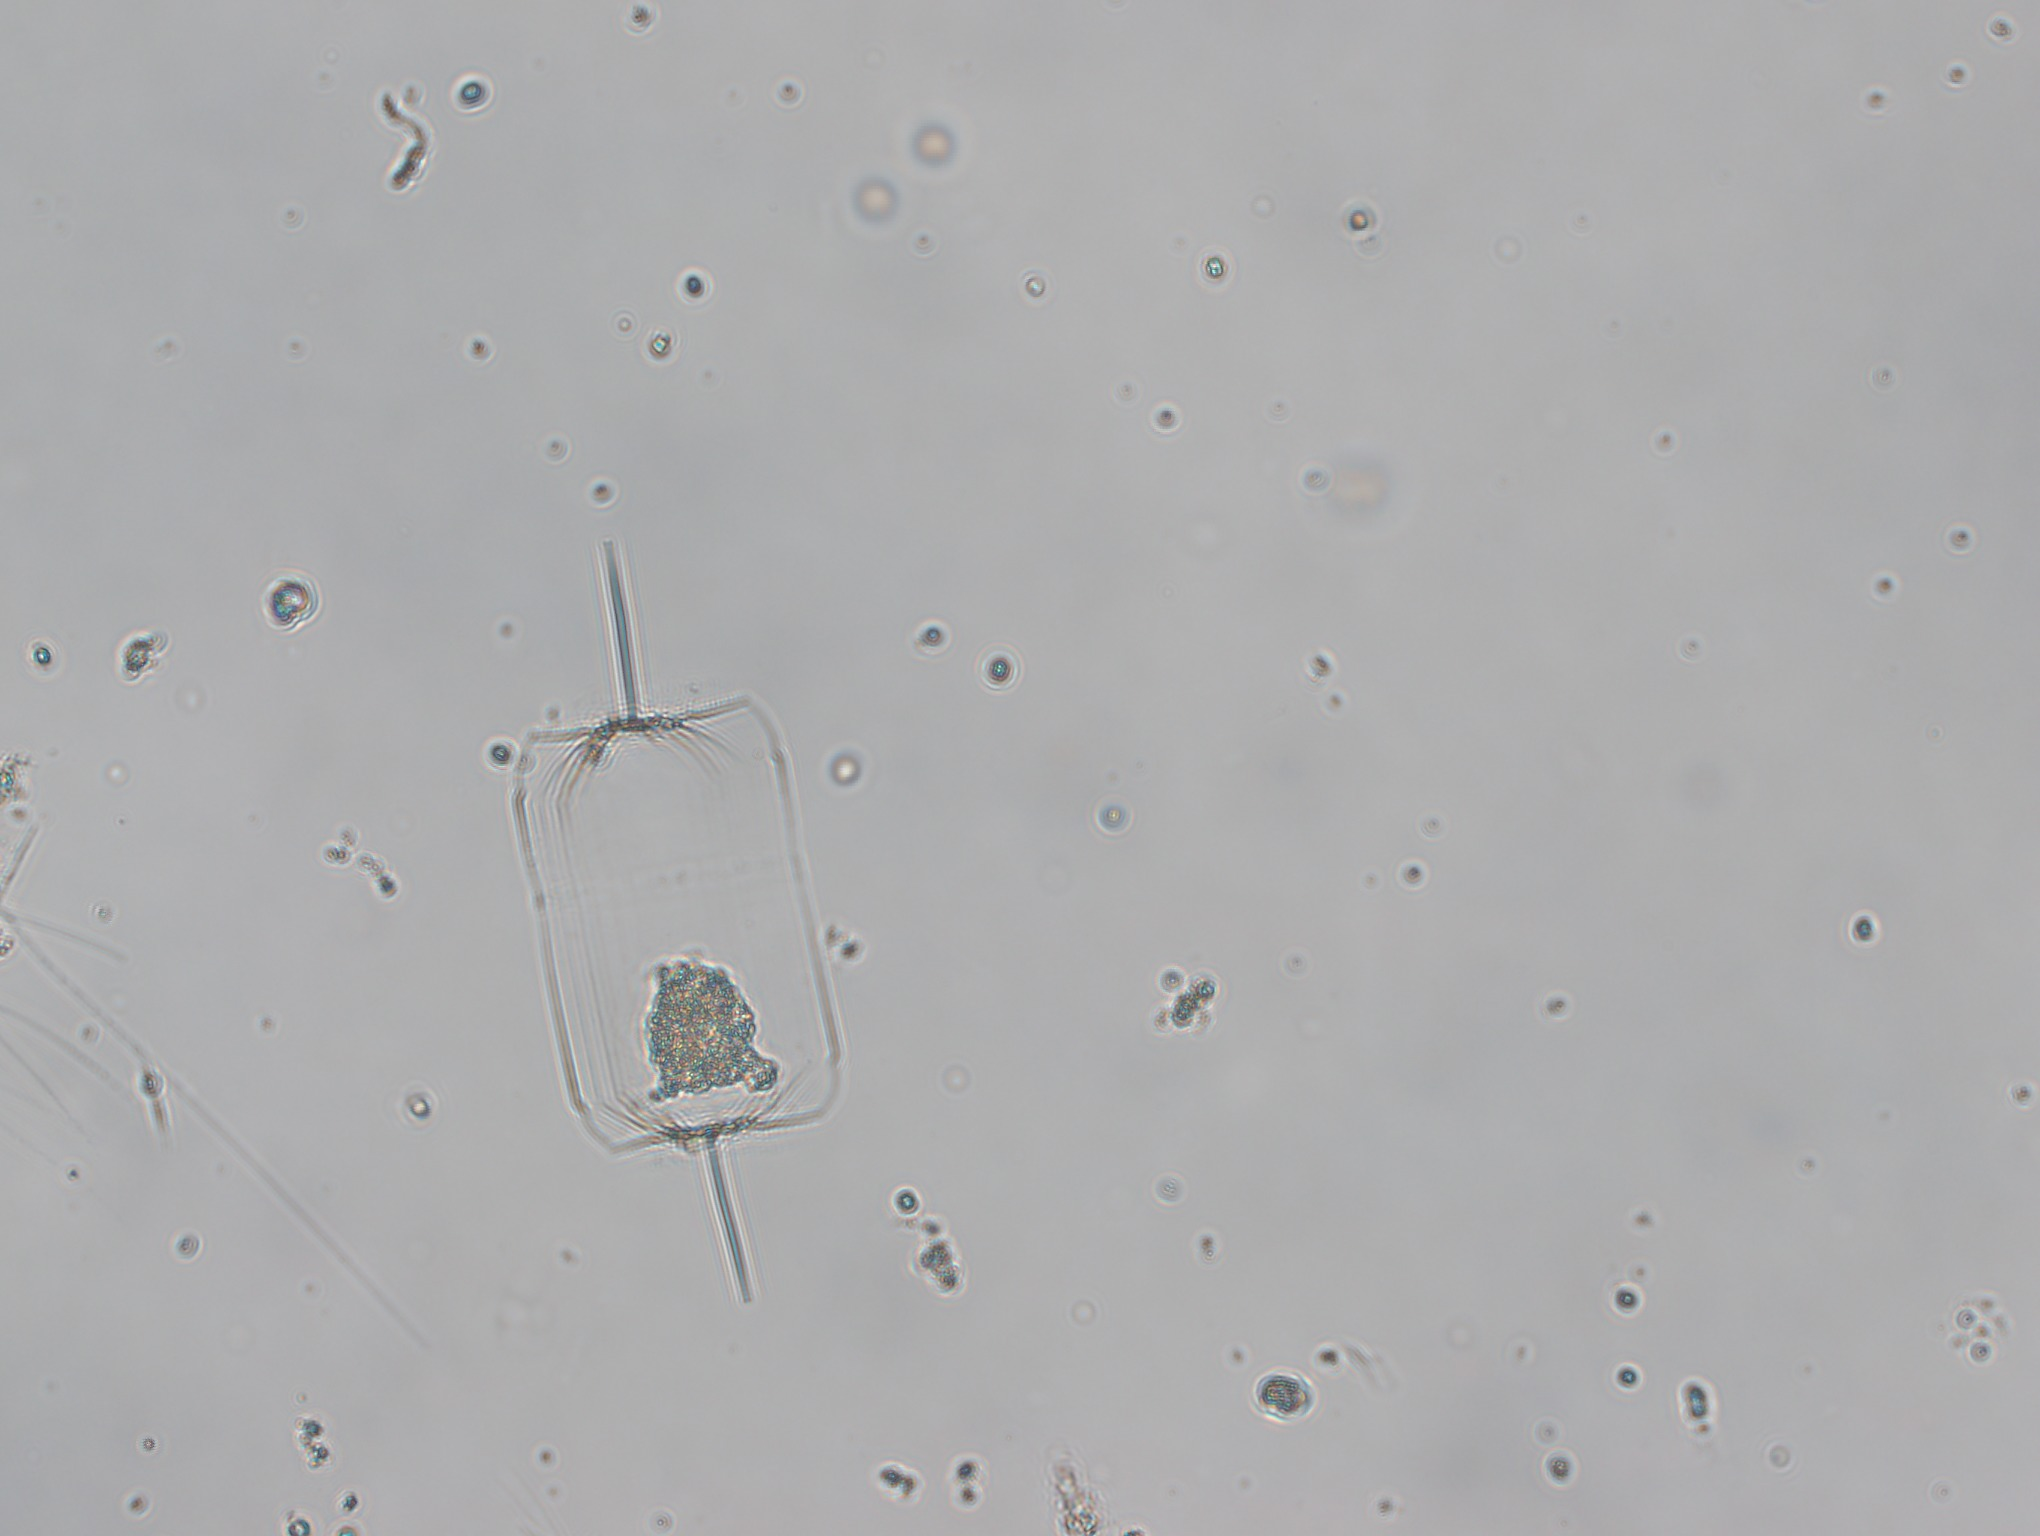ditylum: (508, 537, 848, 1309)
